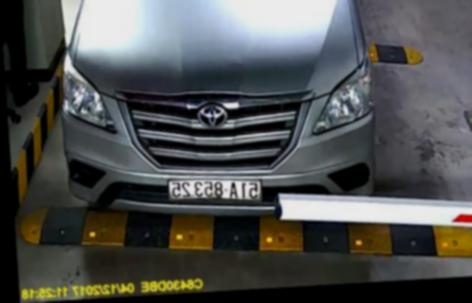License_Plate: (167, 176, 265, 207)
